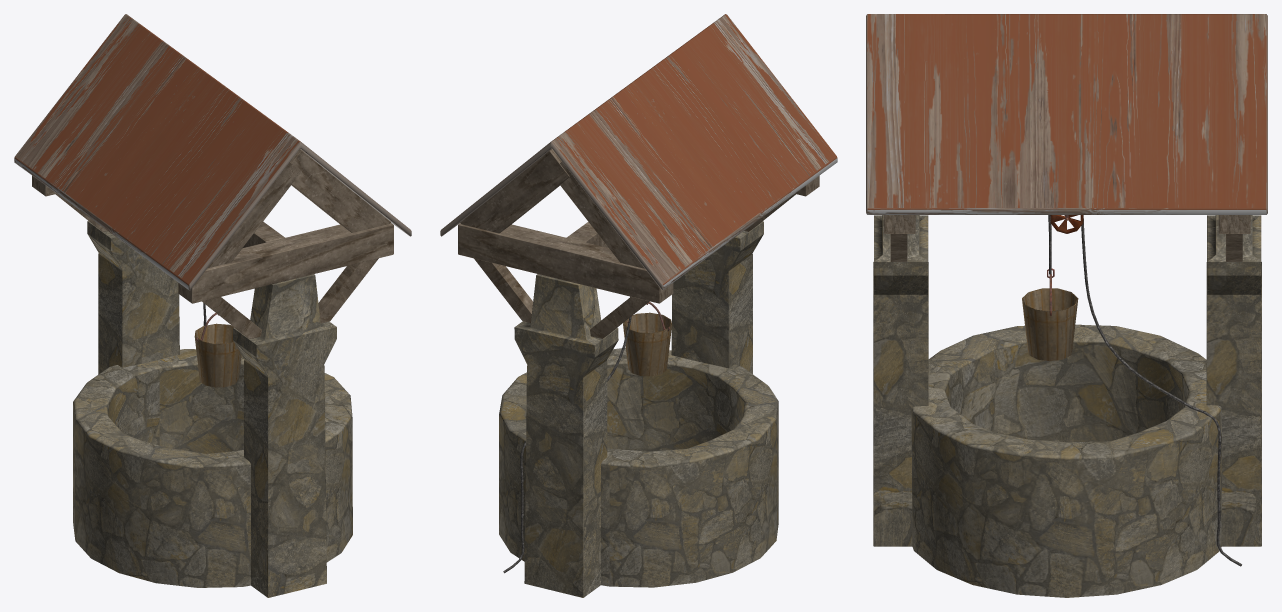
The model's file is old_well.fbx.
3 renders of one model, left to right at view 1: azimuth 30°, elevation 25°; view 2: azimuth 150°, elevation 25°; view 3: azimuth 270°, elevation 25°, orthographic. The views are drawn at different scales.
Visible parts, largest first — view 1: roof, well_wall, right_main_beam, left_main_beam, polySurface7, polySurface20, bucket_shell, polySurface5, polySurface17, polySurface18; view 2: roof, well_wall, left_main_beam, right_main_beam, polySurface19, polySurface21, bucket_shell, polySurface22, polySurface16, polySurface12, rope; view 3: roof, well_wall, left_main_beam, right_main_beam, bucket_shell, rope, polySurface19, polySurface7.
Part boxes in pixels (<box>): roof: <box>14,14,411,290</box>; well_wall: <box>73,349,352,587</box>; right_main_beam: <box>233,274,336,597</box>; left_main_beam: <box>87,221,179,374</box>; polySurface7: <box>178,223,393,303</box>; polySurface20: <box>283,149,390,232</box>; bucket_shell: <box>194,323,241,387</box>; polySurface5: <box>207,162,300,268</box>; polySurface17: <box>318,258,378,323</box>; polySurface18: <box>202,297,261,338</box>; roof: <box>440,14,837,289</box>; well_wall: <box>499,347,778,587</box>; left_main_beam: <box>514,274,618,597</box>; right_main_beam: <box>671,221,763,373</box>; polySurface19: <box>458,223,673,303</box>; polySurface21: <box>460,149,569,233</box>; bucket_shell: <box>623,312,671,376</box>; polySurface22: <box>560,162,644,268</box>; polySurface16: <box>474,258,532,322</box>; polySurface12: <box>590,297,649,338</box>; rope: <box>503,296,631,573</box>; roof: <box>866,14,1267,214</box>; well_wall: <box>911,324,1221,597</box>; left_main_beam: <box>1206,215,1261,546</box>; right_main_beam: <box>873,215,928,546</box>; bucket_shell: <box>1022,288,1078,361</box>; rope: <box>1048,215,1241,566</box>; polySurface19: <box>1218,215,1250,233</box>; polySurface7: <box>883,215,915,233</box>.
Bounding box in the file's own units: 11.64 × 20.74 × 14.54.
